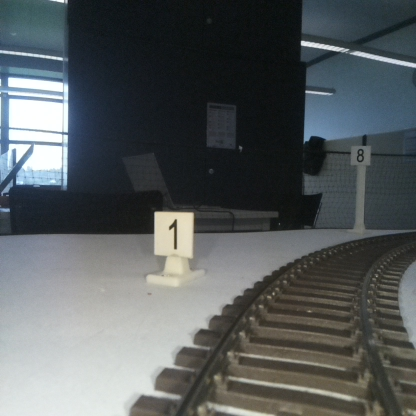white-info-8: (350, 146, 370, 230)
white-stop-1: (153, 212, 193, 283)
